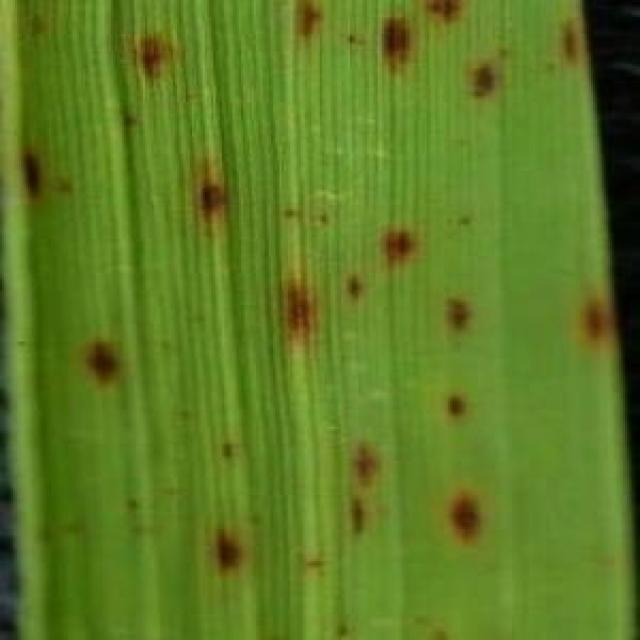Rice: (76, 318, 135, 402), (272, 257, 325, 344), (439, 473, 487, 561), (369, 1, 426, 73), (183, 165, 246, 230), (376, 216, 436, 268), (346, 425, 396, 483), (125, 20, 171, 83), (12, 135, 54, 202), (333, 481, 374, 538), (558, 9, 590, 82), (277, 0, 332, 40), (470, 50, 508, 107), (432, 382, 482, 425), (210, 519, 250, 572), (574, 288, 605, 353), (416, 0, 469, 30), (328, 268, 370, 305), (440, 287, 470, 334)
